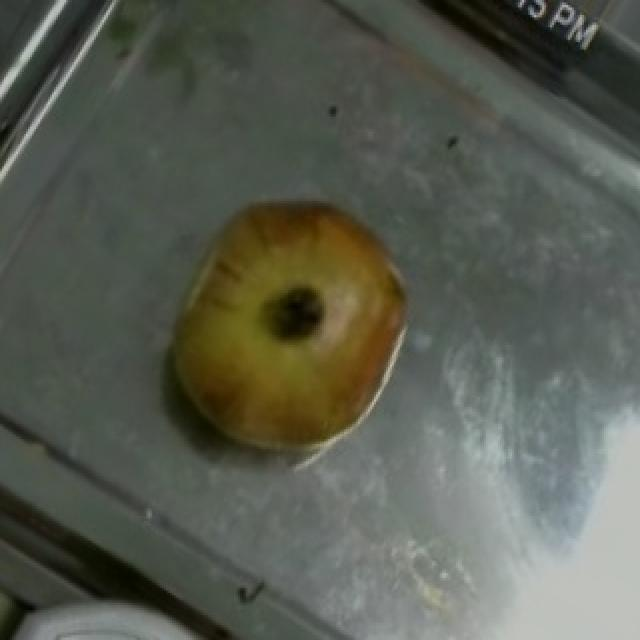fruit: (182, 168, 442, 426)
